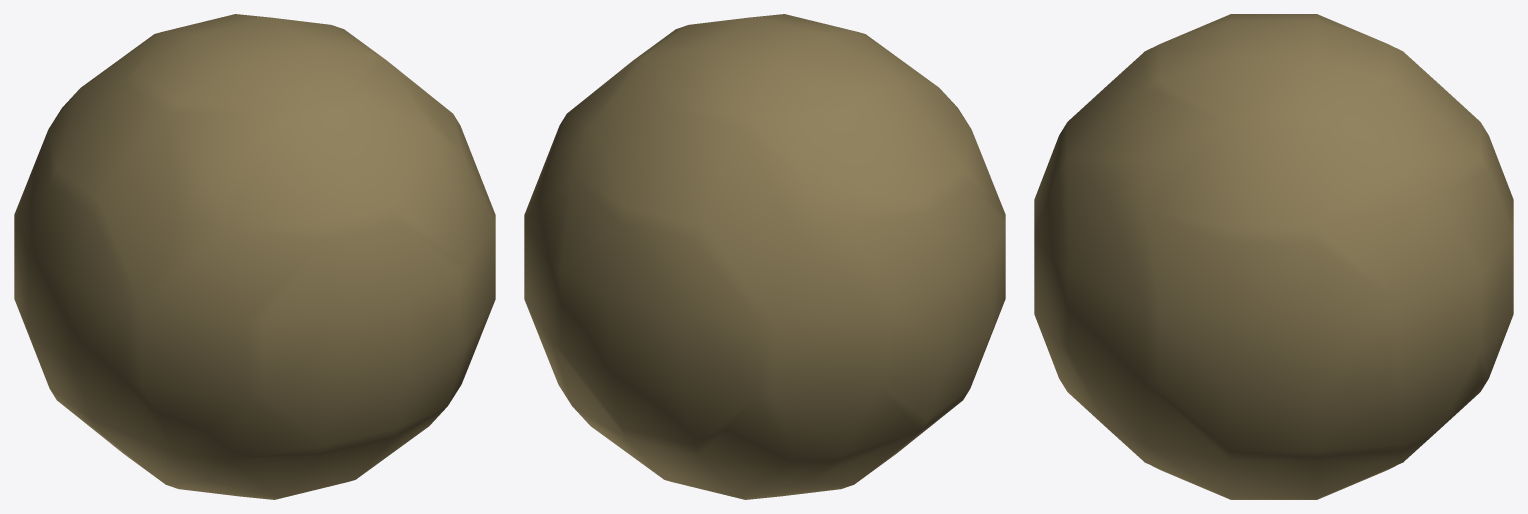
File: bullet.fbx
The picture shows the model from 3 angles, left to right: view 1: azimuth 30°, elevation 25°; view 2: azimuth 150°, elevation 25°; view 3: azimuth 270°, elevation 25°; orthographic projection.
Parts seen in each view (by area): view 1: Mball; view 2: Mball; view 3: Mball.
Part boxes in pixels (x1,y1,x2,y2): Mball: (14, 14, 495, 499); Mball: (524, 14, 1005, 499); Mball: (1034, 14, 1513, 499).
Bounding box in the file's own units: 223 × 223 × 223.
Materials: 1 (1 with a texture image).
